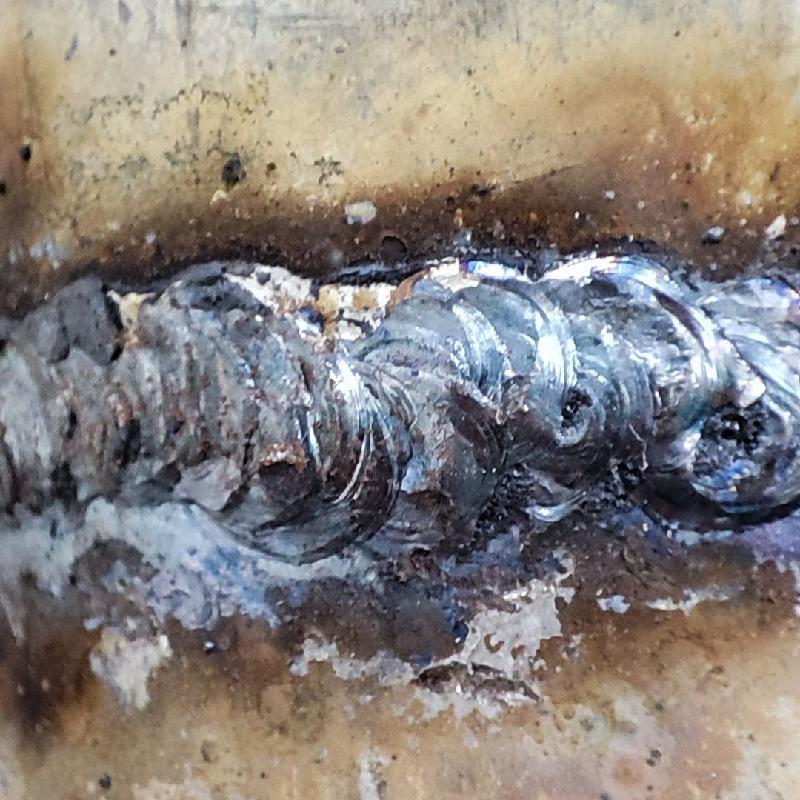Surface_pores: (691, 399, 765, 463)
good: (0, 263, 799, 544)
